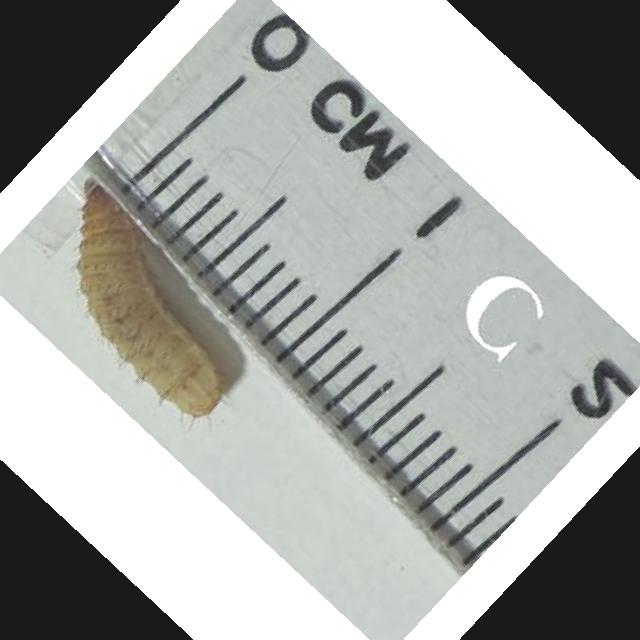Maggot: (68, 174, 228, 418)
